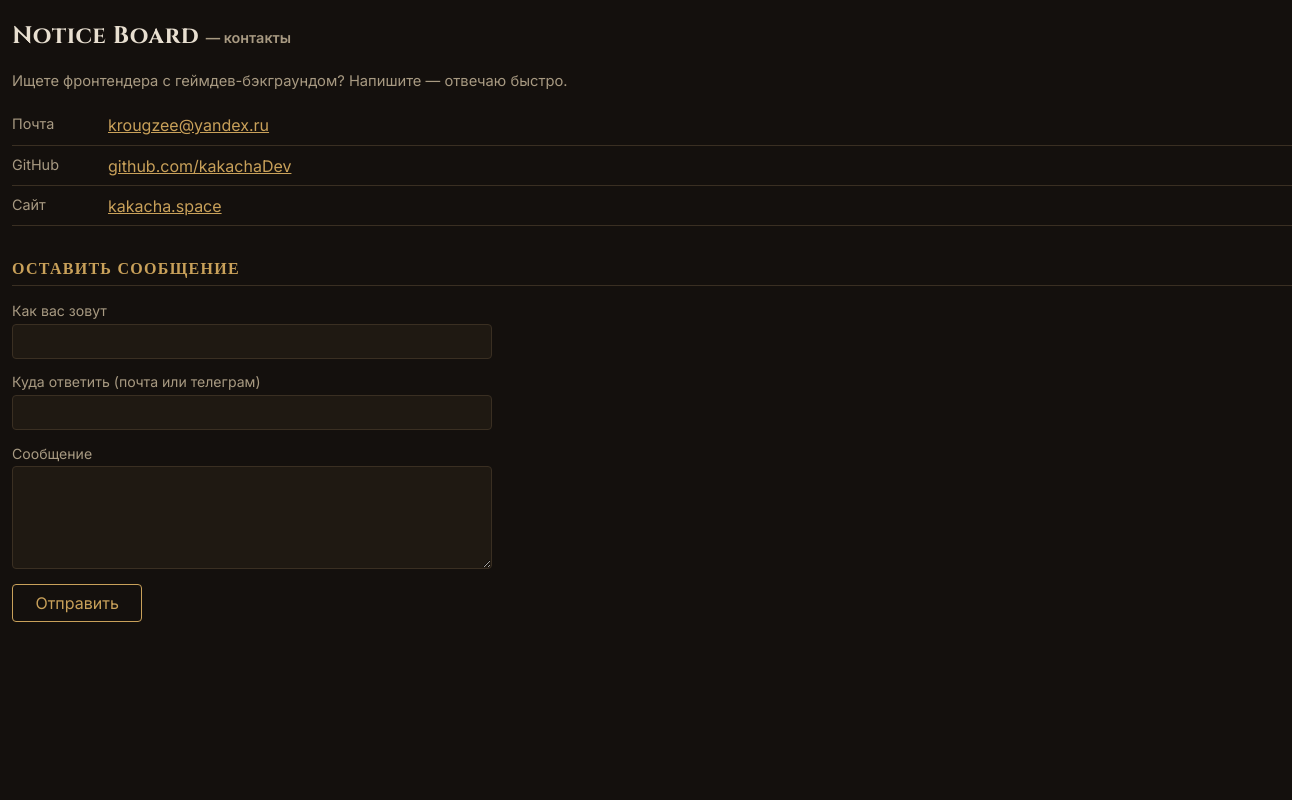
Test case: ContactView › shows an error message when submission fails
The width and height of the screenshot is (1292, 800).
Type "Егор" into the field named "name" at (252, 342), box [12,324,492,359]
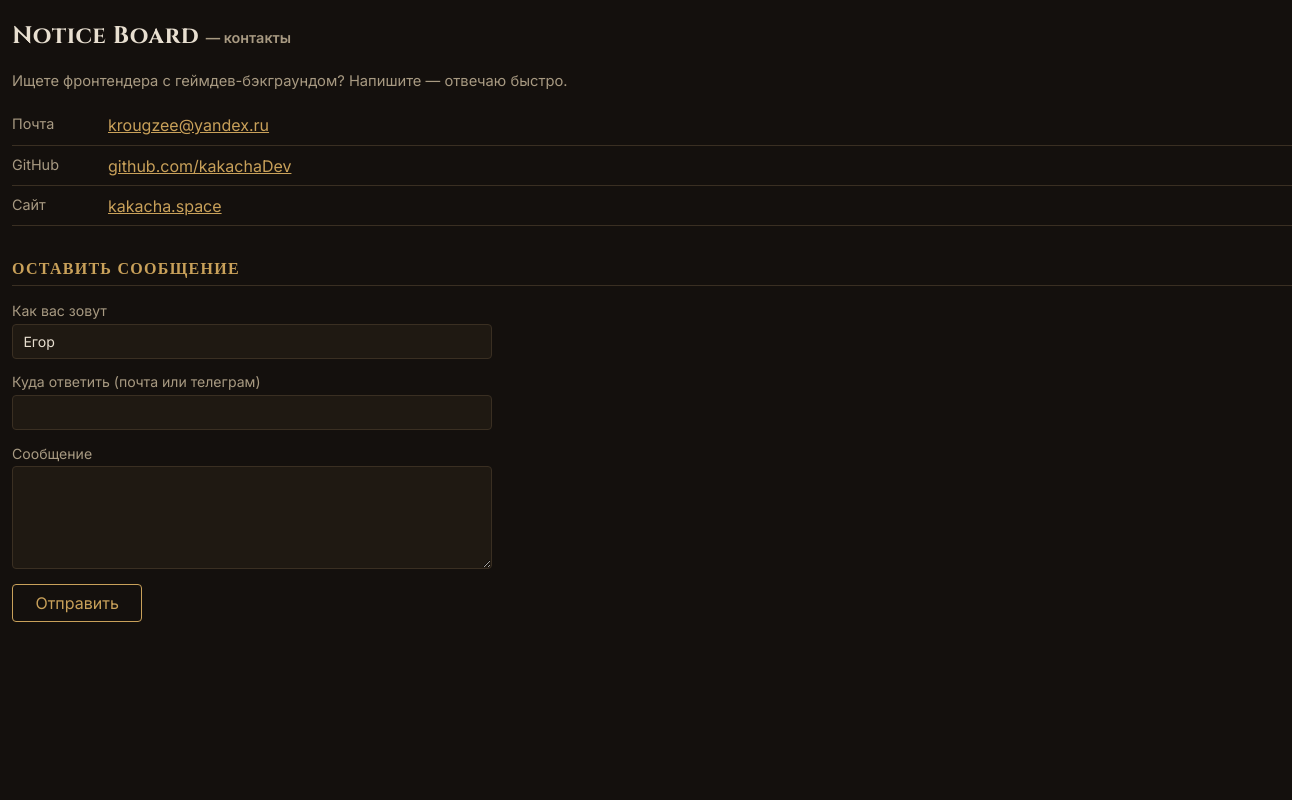
Type "hr@example.com" into the field named "reply" at (252, 413), box [12,395,492,430]
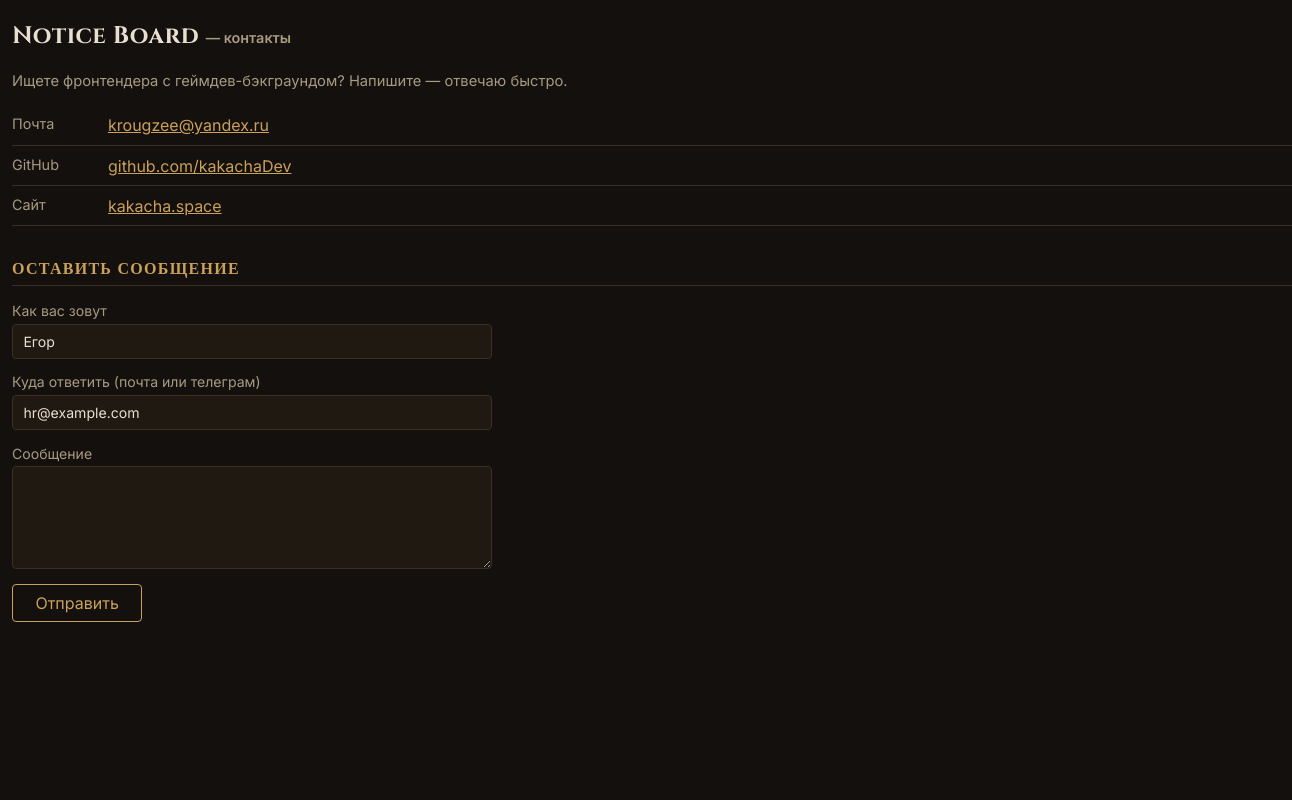
Type "Привет!" into the text box named "message" at (252, 518), box [12,466,492,569]
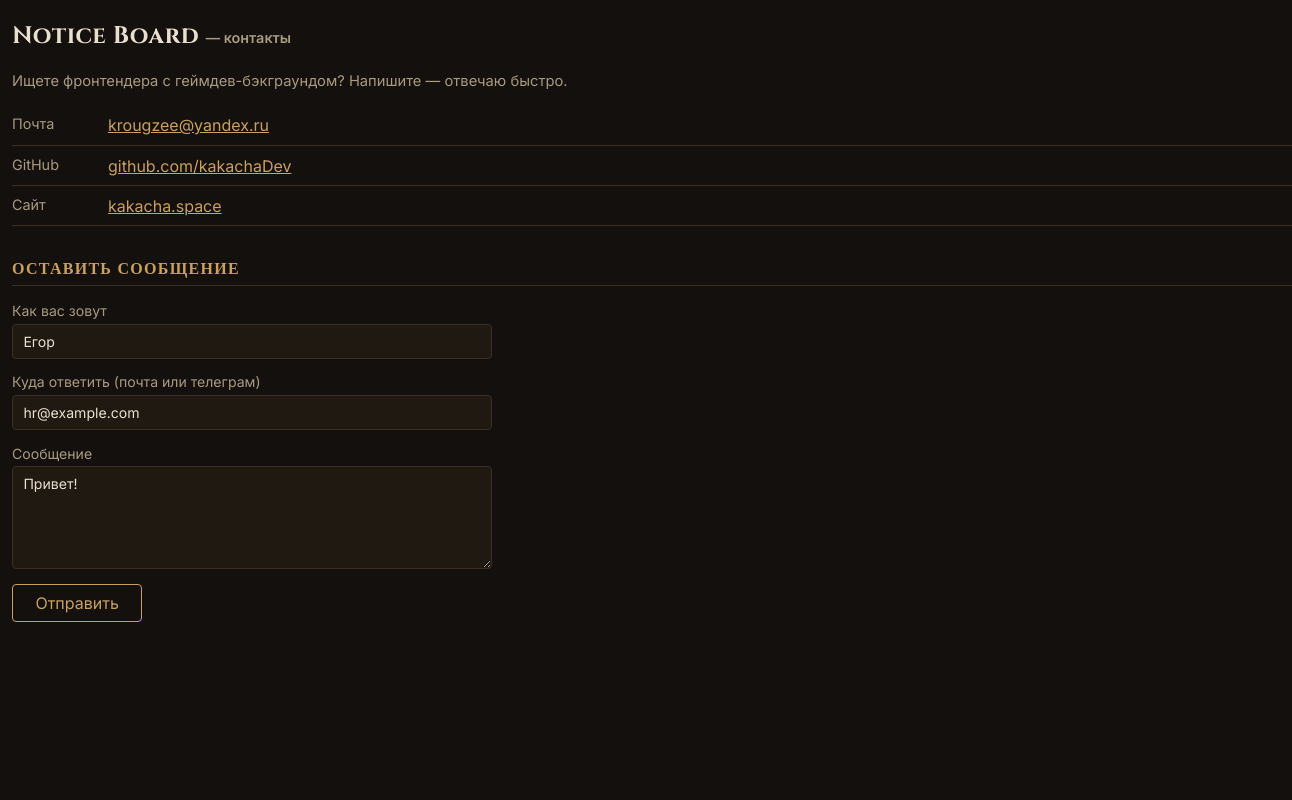
Submit the form, box [12,302,492,622]
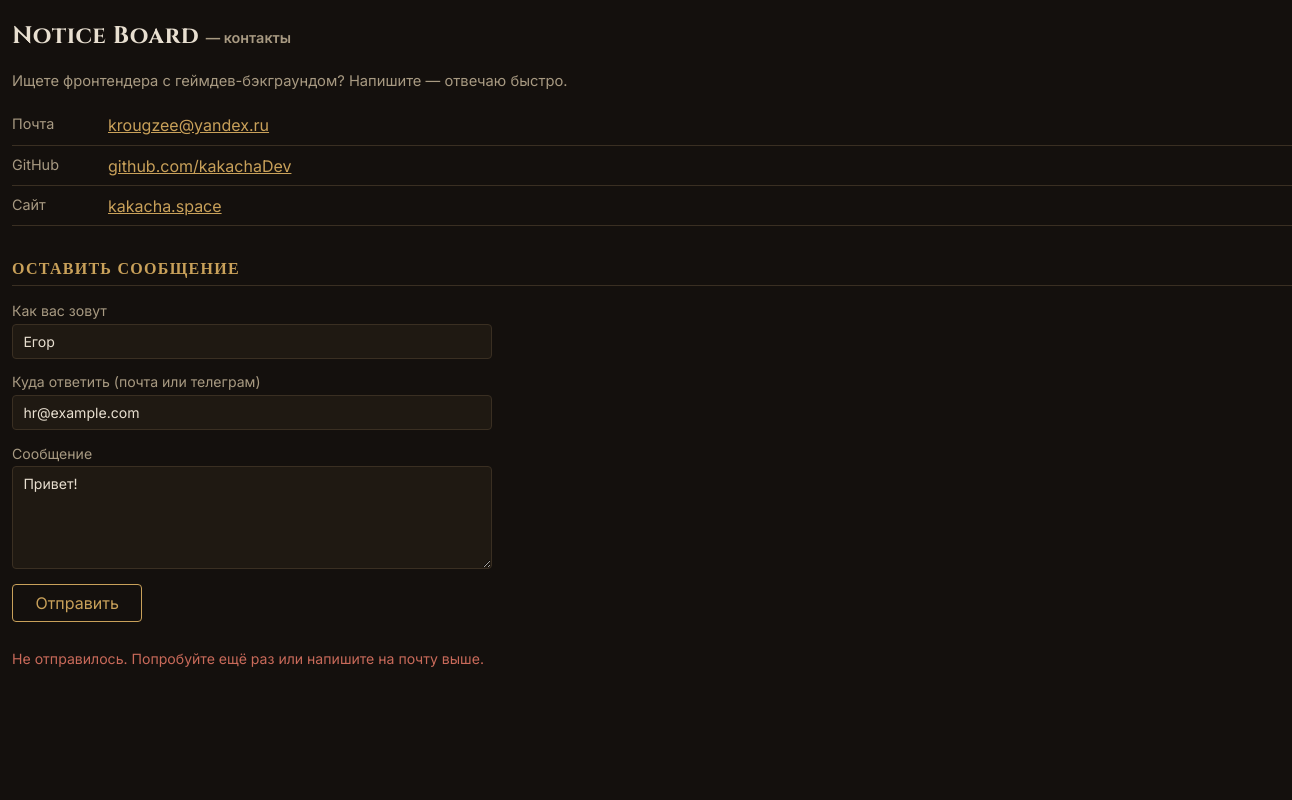
Expected: the text with test id "form-error" is shown, [12,650,492,667]
